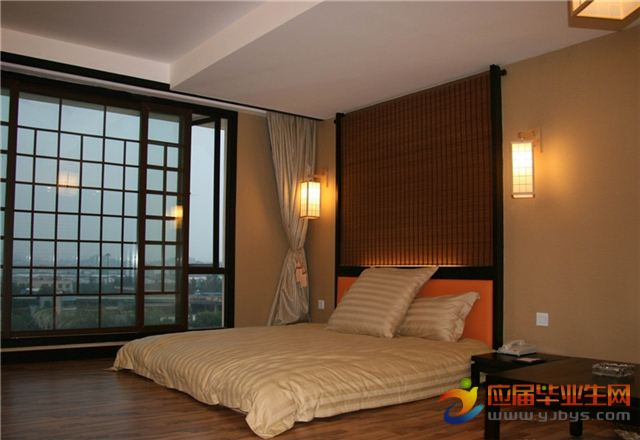床: (106, 322, 496, 430)
枕头: (326, 271, 476, 345)
灯: (506, 125, 545, 201), (295, 179, 324, 223)
